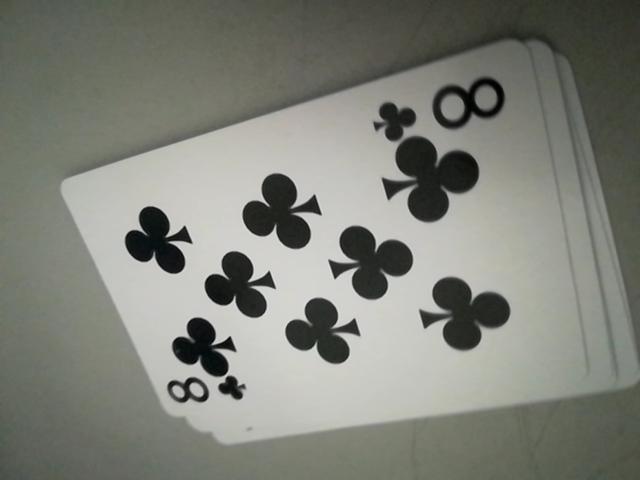mh 8: (373, 65, 516, 143), (159, 367, 244, 415)
